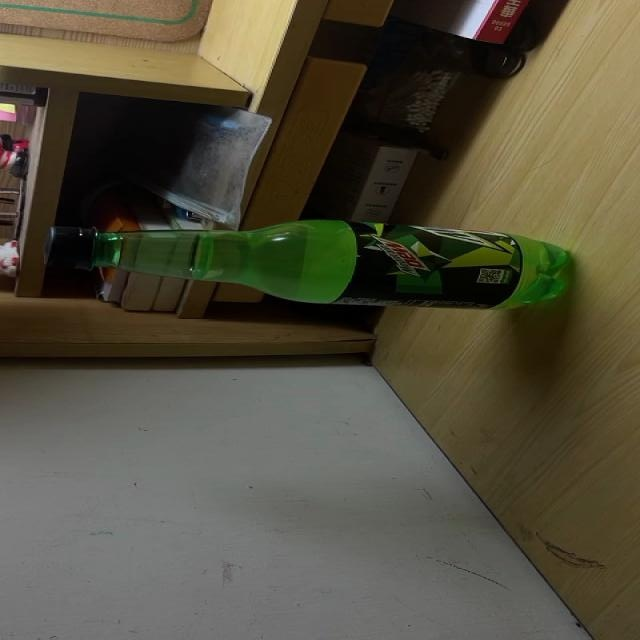Mountain-Dew: (41, 218, 574, 309)
